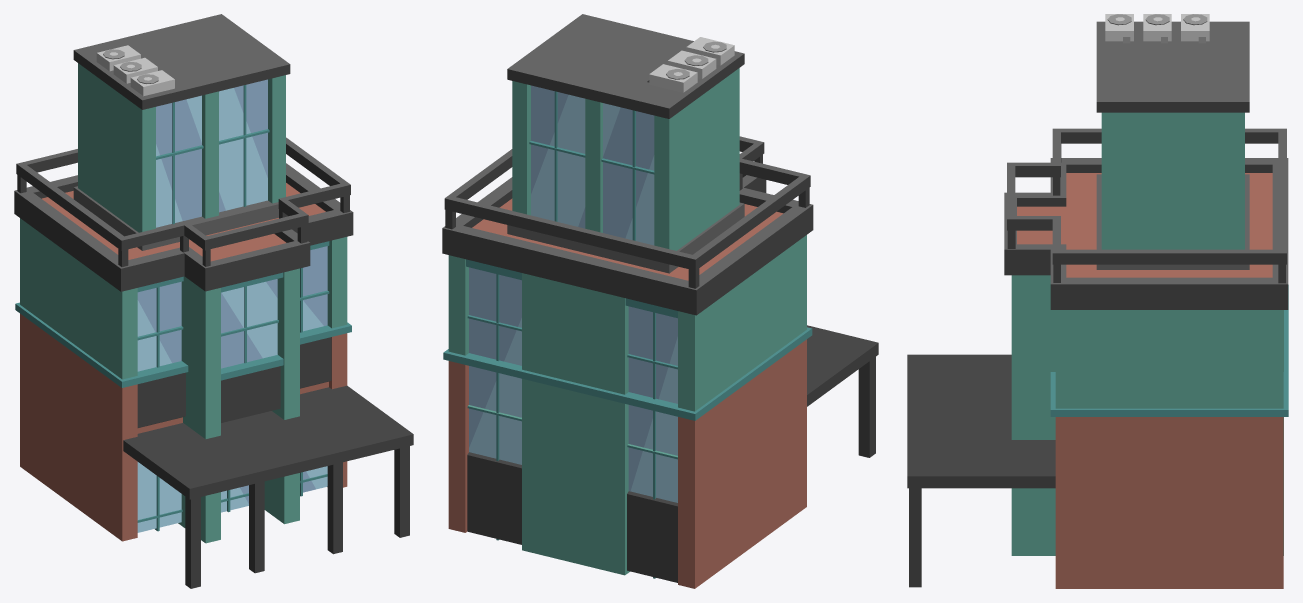
File: hotel_004.fbx
The picture shows the model from 3 angles, left to right: view 1: azimuth 30°, elevation 25°; view 2: azimuth 150°, elevation 25°; view 3: azimuth 270°, elevation 25°; orthographic projection. The views are drawn at different scales.
Visible parts, largest first — view 1: hotel_004; view 2: hotel_004; view 3: hotel_004.
Boxes of the visible parts, bbox=[...] form: hotel_004: bbox=[14, 14, 413, 588]; hotel_004: bbox=[442, 14, 878, 588]; hotel_004: bbox=[907, 14, 1288, 588].
Bounding box in the file's own units: 597 × 1059 × 761.
